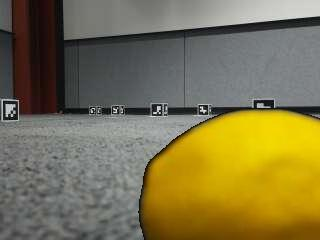lemon: (144, 109, 320, 239)
